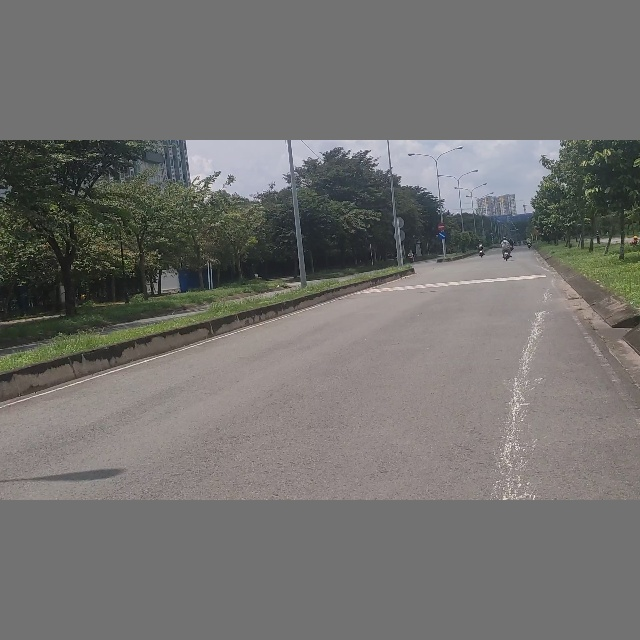P.102: (438, 223, 445, 231)
R.302a: (439, 232, 446, 239)
